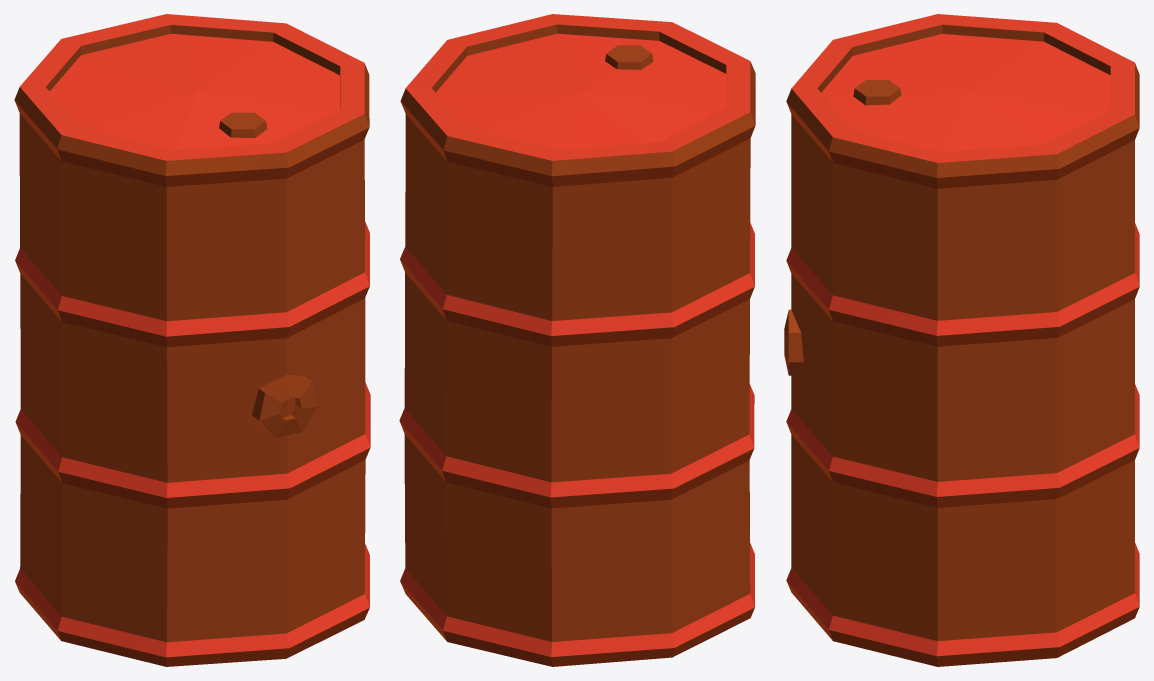
The model's file is barrel2.fbx.
3 renders of one model, left to right at view 1: azimuth 30°, elevation 25°; view 2: azimuth 150°, elevation 25°; view 3: azimuth 270°, elevation 25°, orthographic.
Visible parts, largest first — view 1: barrel2; view 2: barrel2; view 3: barrel2.
Part boxes in pixels (x1,y1,x2,y2): barrel2: [14, 14, 370, 666]; barrel2: [399, 14, 755, 666]; barrel2: [784, 14, 1139, 666].
Size of the model in its own units: 68.44 by 106 by 67.57.
